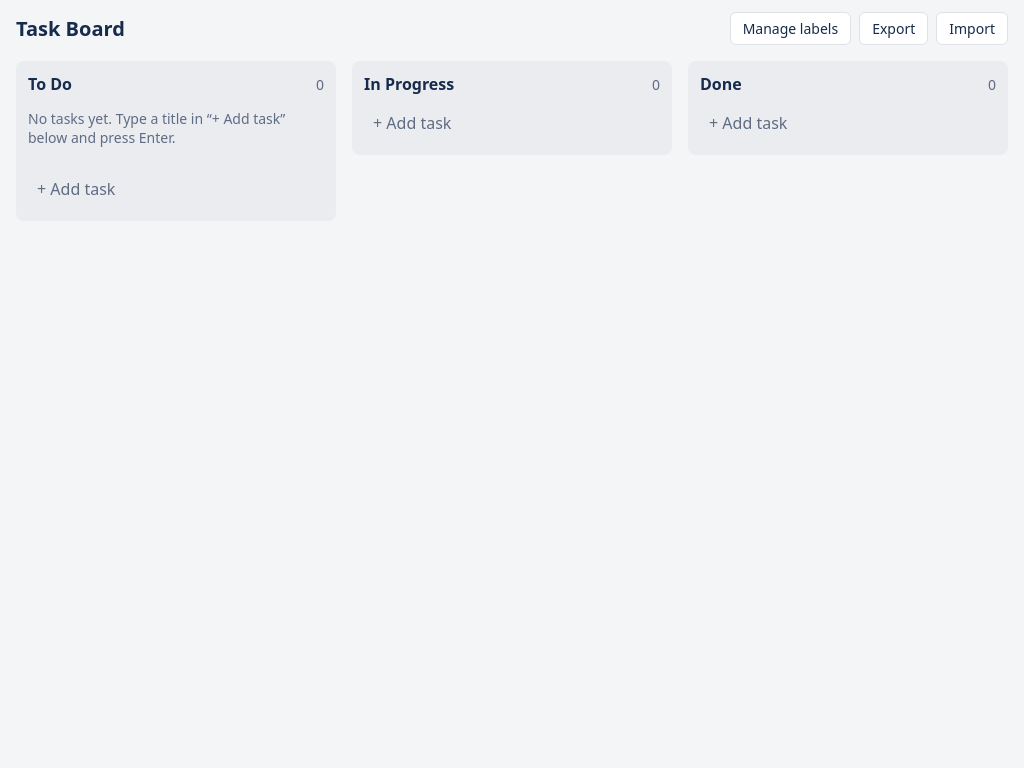
Test: Manage labels screen › shows a hint when the Board has no Labels, and closes with the Close button or Escape
The image size is (1024, 768).
Click the button "Manage labels". click: (790, 28)
box: [730, 12, 851, 45]
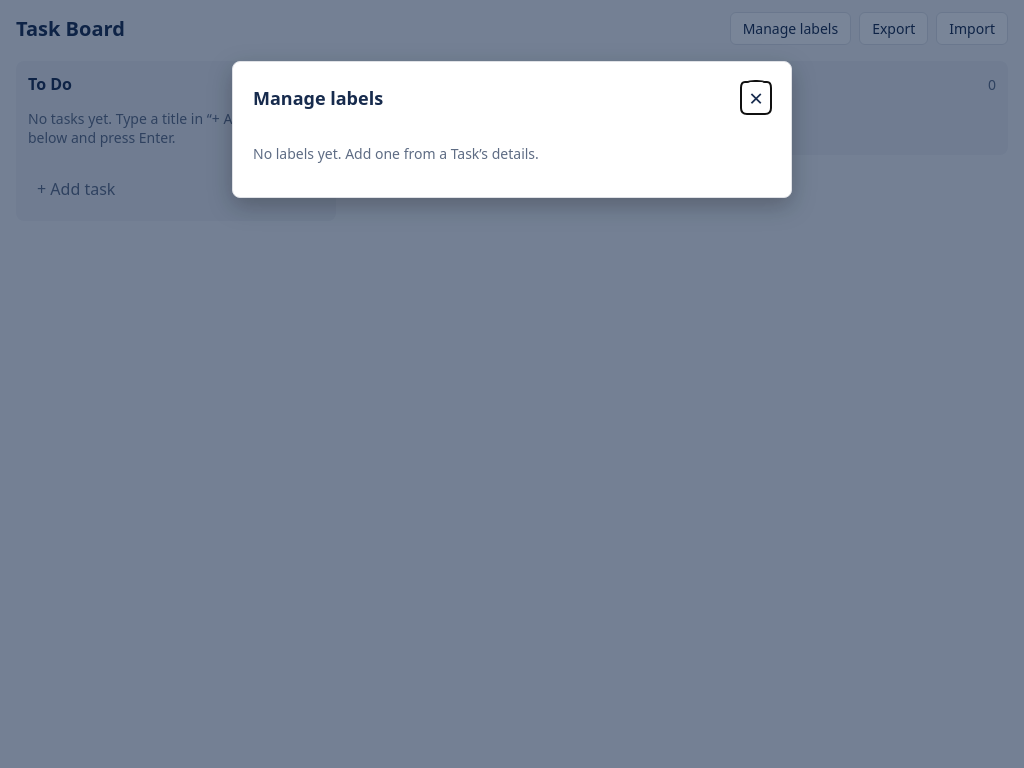
Expected: the dialog "Manage labels" shows "No labels yet", [253, 144, 539, 163]
Click the button named "Close". click: (756, 98)
box: [741, 82, 771, 114]
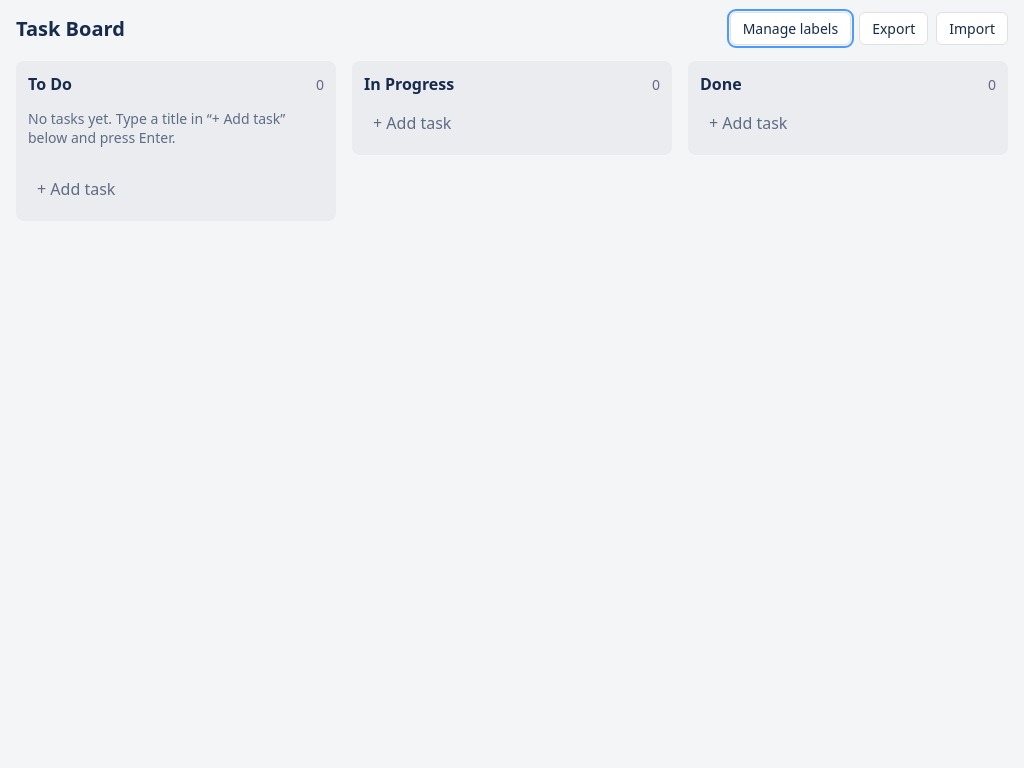
Expected: the dialog is gone
Click the button "Manage labels". click: (790, 28)
box: [730, 12, 851, 45]
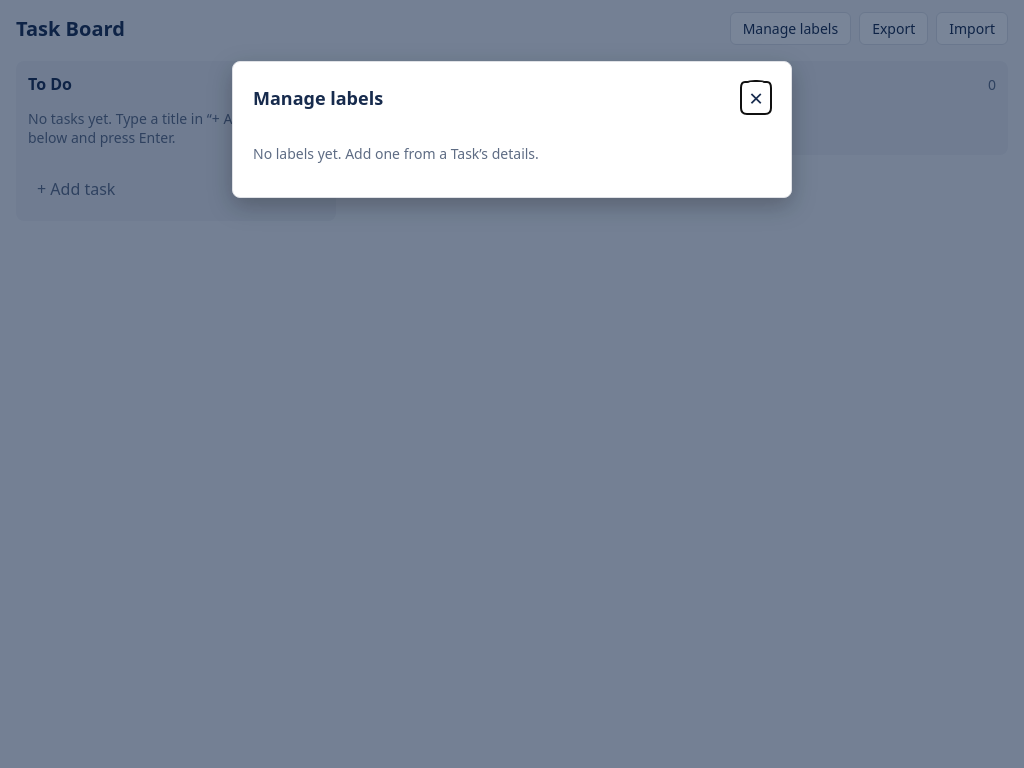
Press Escape
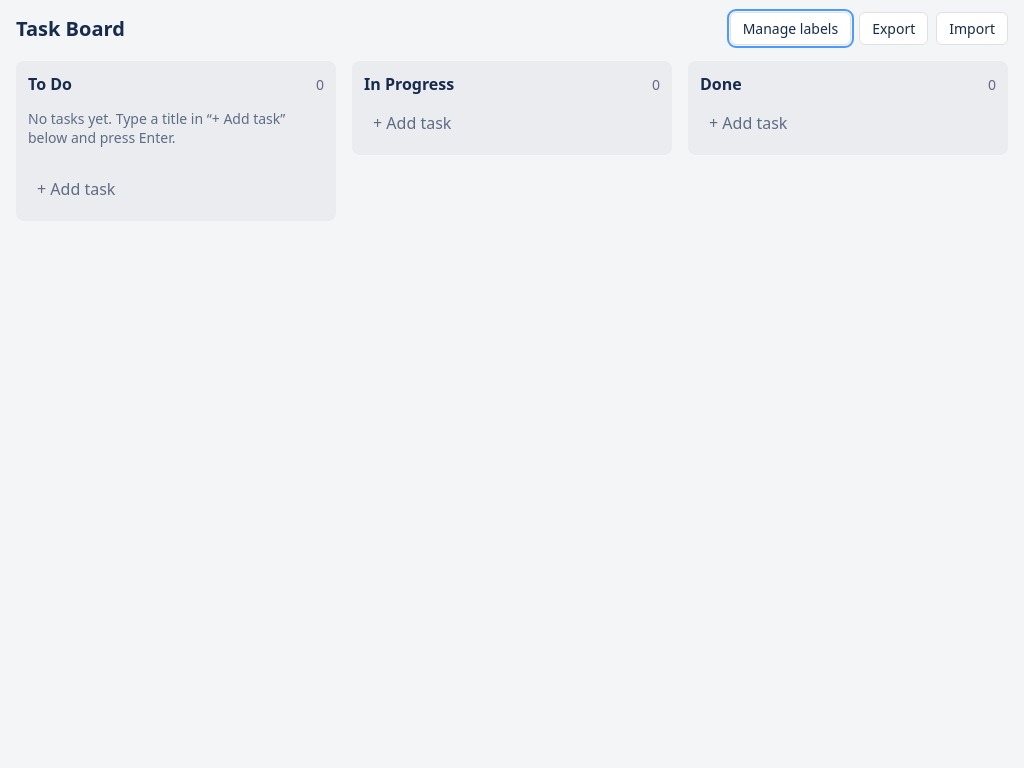
Expected: the dialog is gone
